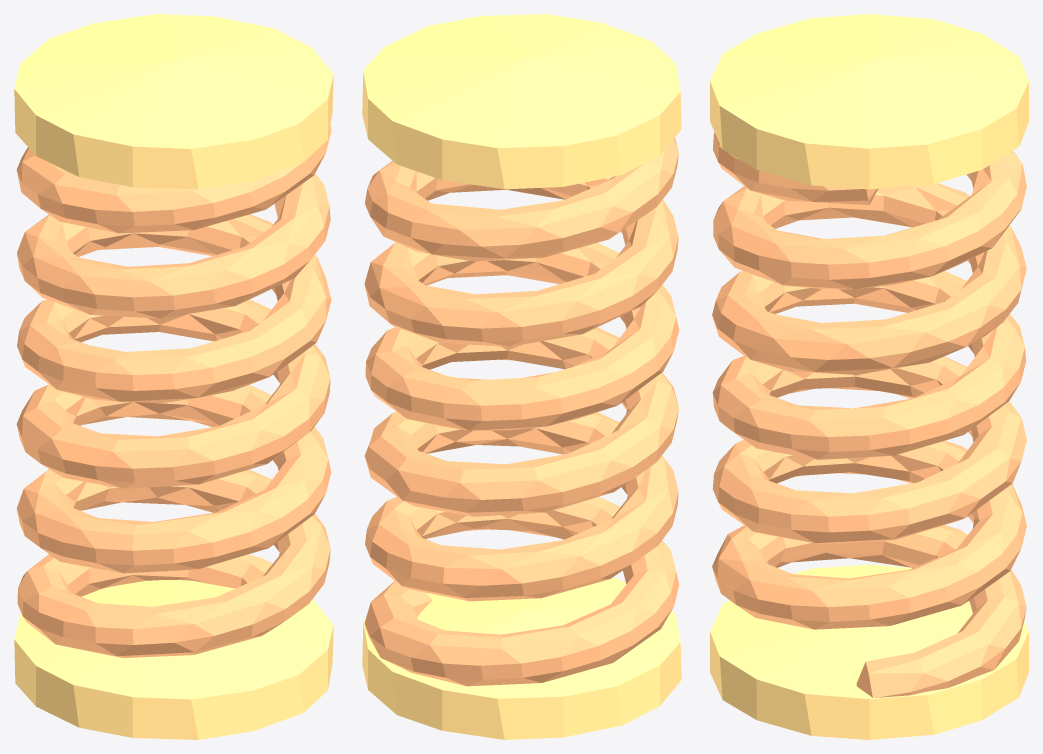
File: Refaccion_Resorte.glb
3 views of the same model, side by side, from view 1: azimuth 30°, elevation 25°; view 2: azimuth 150°, elevation 25°; view 3: azimuth 270°, elevation 25° (orthographic).
Visible parts, largest first — view 1: Refaccion_Resorte; view 2: Refaccion_Resorte; view 3: Refaccion_Resorte.
Boxes of the visible parts, x1,y1,x2,y2 form: Refaccion_Resorte: [14, 14, 333, 739]; Refaccion_Resorte: [362, 14, 681, 739]; Refaccion_Resorte: [710, 14, 1028, 739].
Size of the model in its own units: 0.17 by 0.3735 by 0.17.
